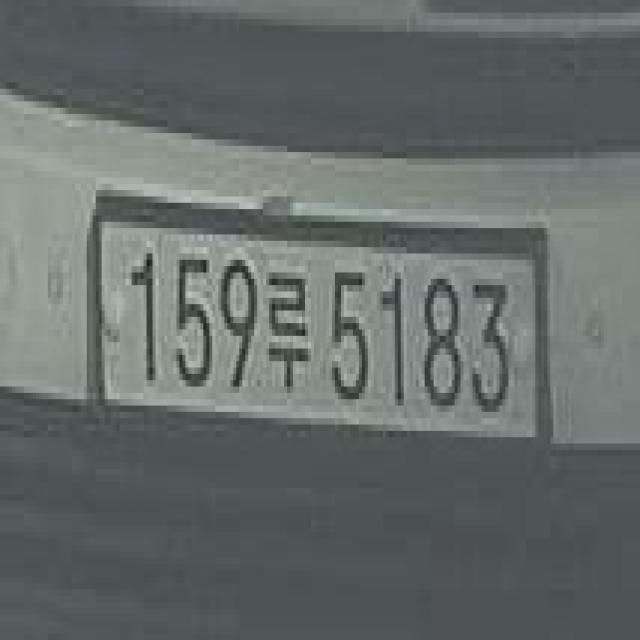plat: (91, 198, 548, 440)
